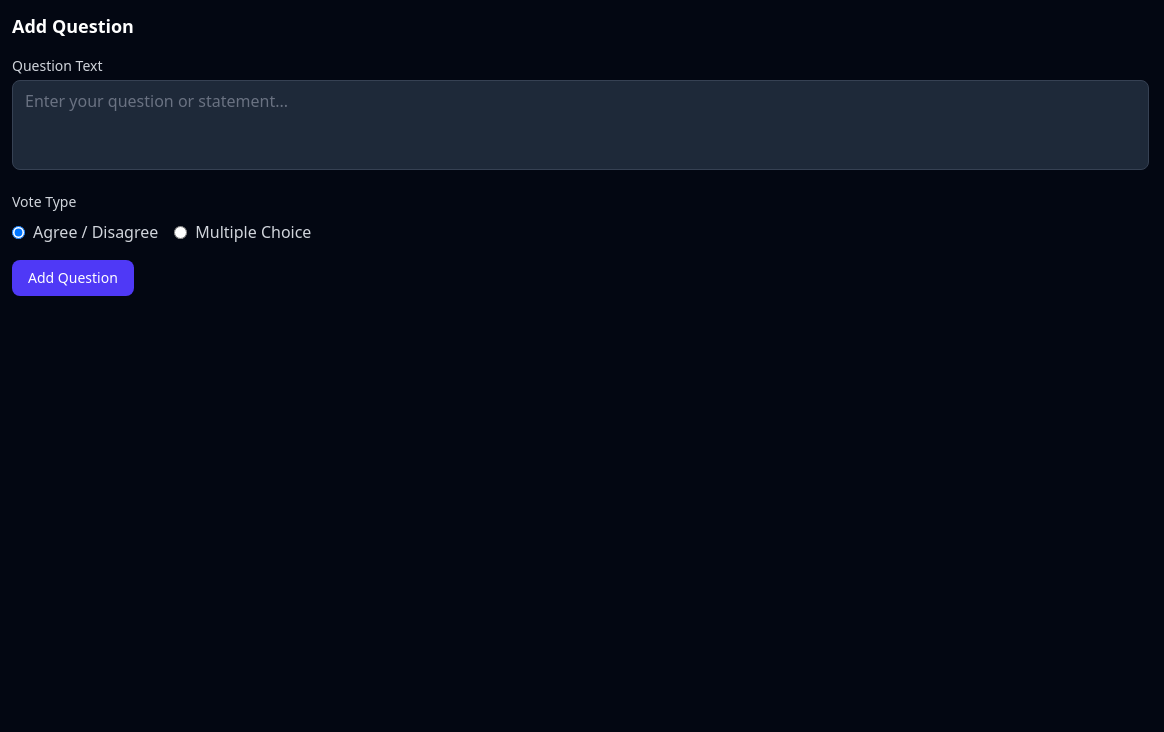
Test case: QuestionForm › shows options when multiple choice is selected
Click the radio button showing "multiple_choice": point(181, 232) [174,226,187,238]
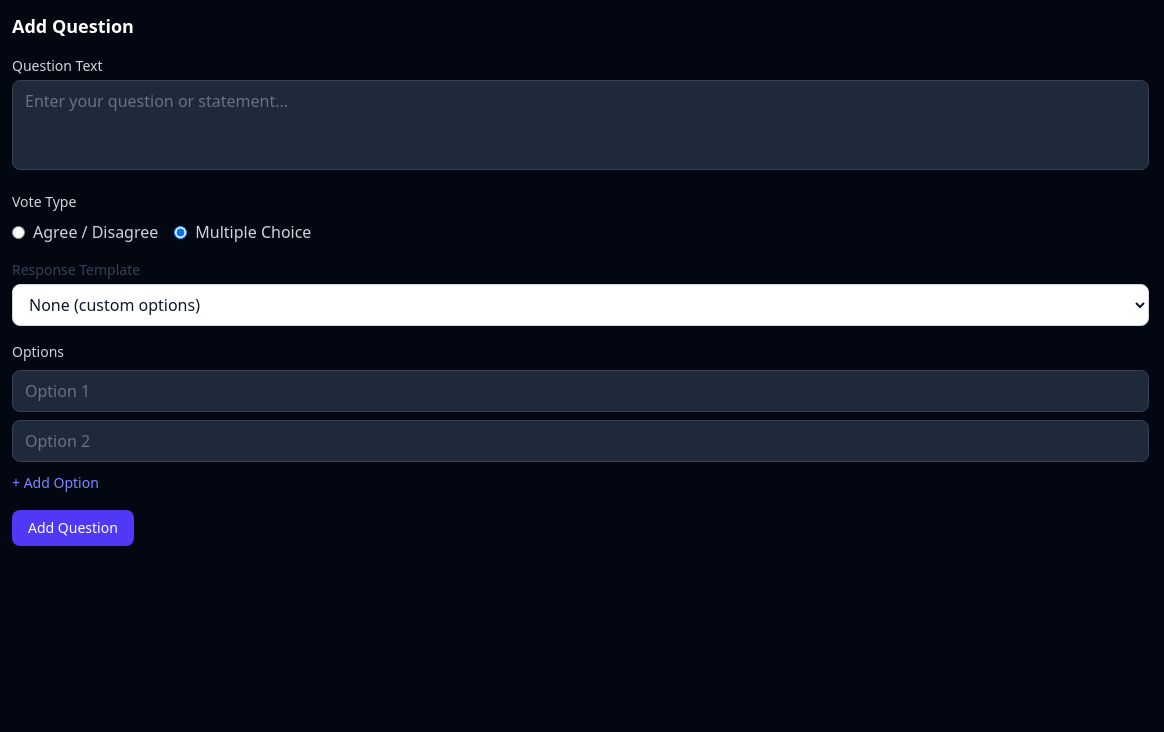
expect the text "Options" is shown: met, box [12,342,64,362]
expect the field with placeholder "Option 1" is shown: met, box [12,370,1149,412]
expect the field with placeholder "Option 2" is shown: met, box [12,420,1149,462]
